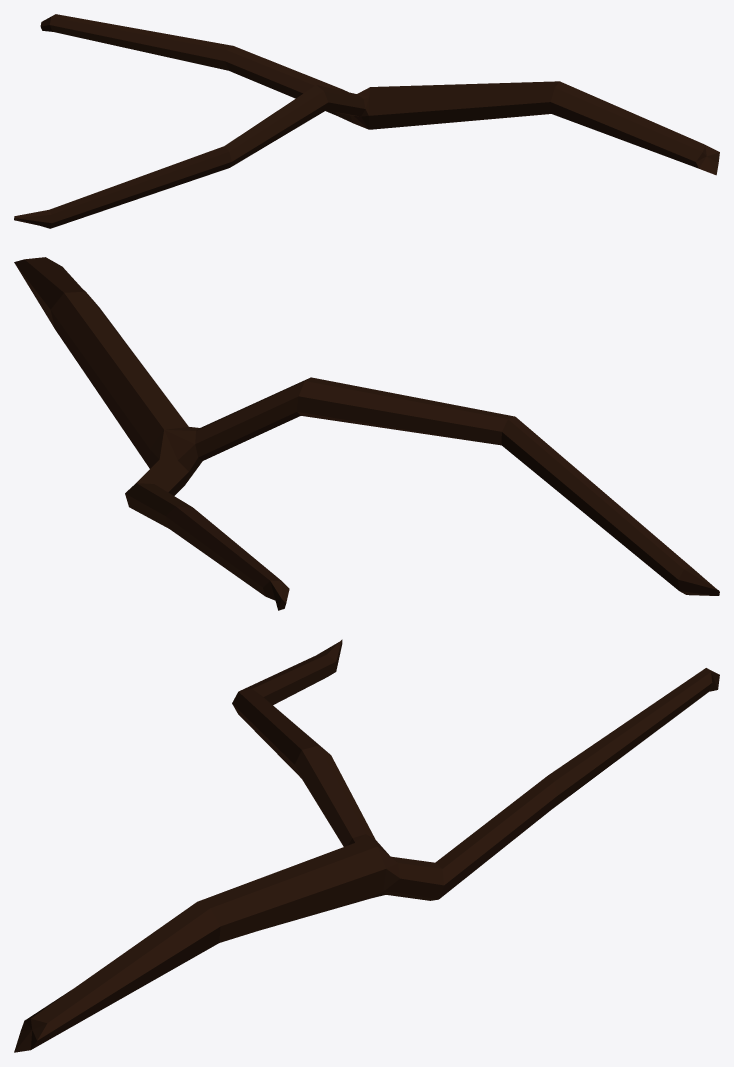
The model's file is LowPoly Tree.fbx.
3 renders of one model, top to bottom at view 1: azimuth 30°, elevation 25°; view 2: azimuth 150°, elevation 25°; view 3: azimuth 270°, elevation 25°, orthographic. The views are drawn at different scales.
Parts seen in each view (by area): view 1: LowPoly Tree; view 2: LowPoly Tree; view 3: LowPoly Tree.
Boxes of the visible parts, x1,y1,x2,y2 form: LowPoly Tree: [14, 14, 719, 228]; LowPoly Tree: [14, 257, 719, 610]; LowPoly Tree: [14, 639, 719, 1052].
Bounding box in the file's own units: 175 × 22.66 × 130.
